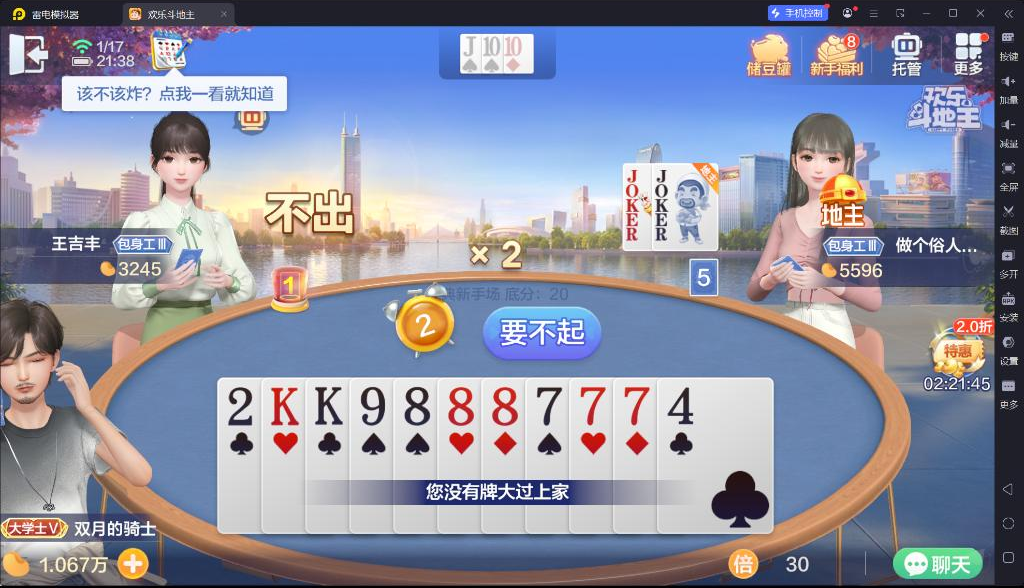J: (461, 34, 478, 59)
JOKER: (625, 166, 643, 219)
K: (267, 383, 303, 429), (312, 383, 344, 427)
eight: (401, 384, 433, 427), (445, 383, 476, 427), (488, 384, 518, 428)
four: (663, 385, 695, 426)
joker: (652, 166, 670, 219)
nine: (357, 383, 386, 428)
seven: (574, 383, 608, 427), (619, 384, 653, 427), (531, 386, 564, 429)
ten: (482, 34, 501, 58), (505, 34, 524, 57)
two: (223, 384, 255, 428)
